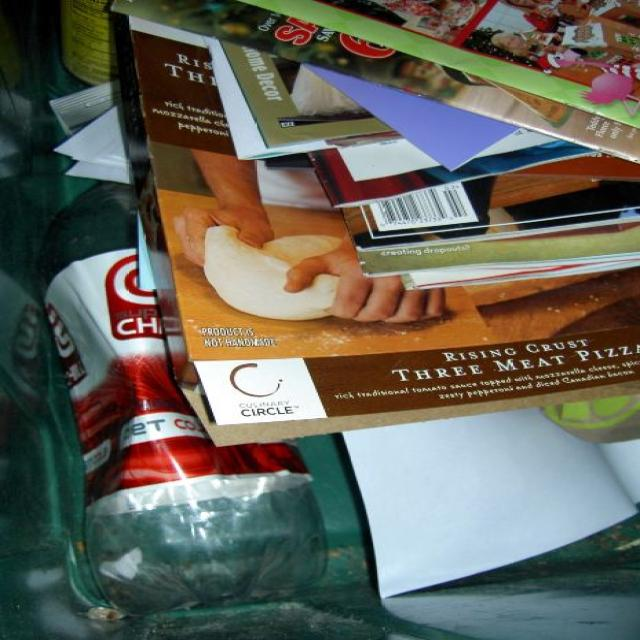paper: (154, 14, 628, 462)
plastic: (51, 255, 211, 610)
trash: (26, 16, 622, 582)
